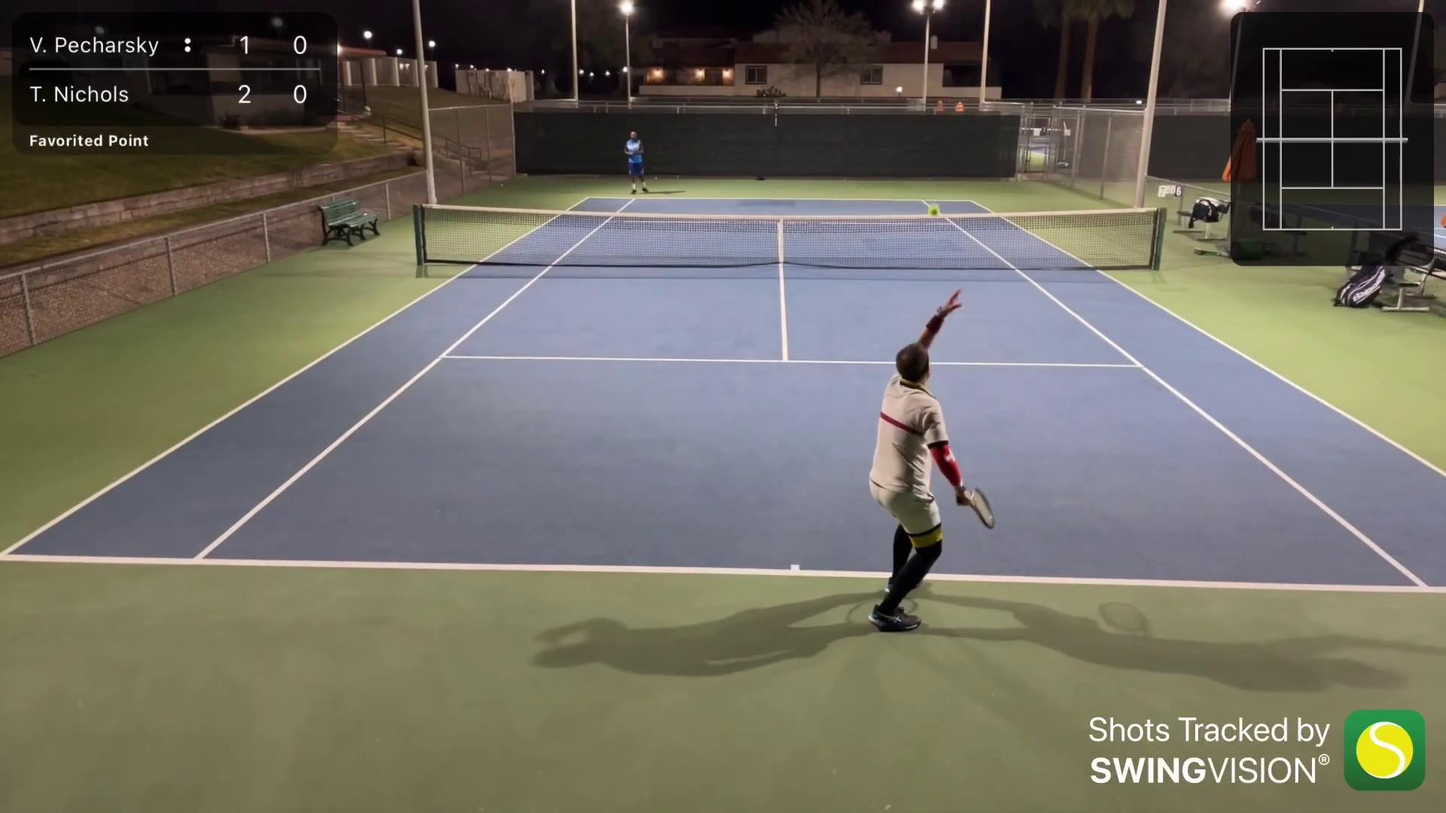ball: (929, 200, 942, 218)
